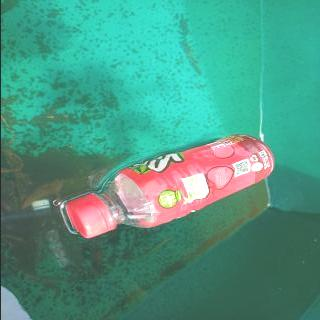bottle: (62, 133, 276, 240)
